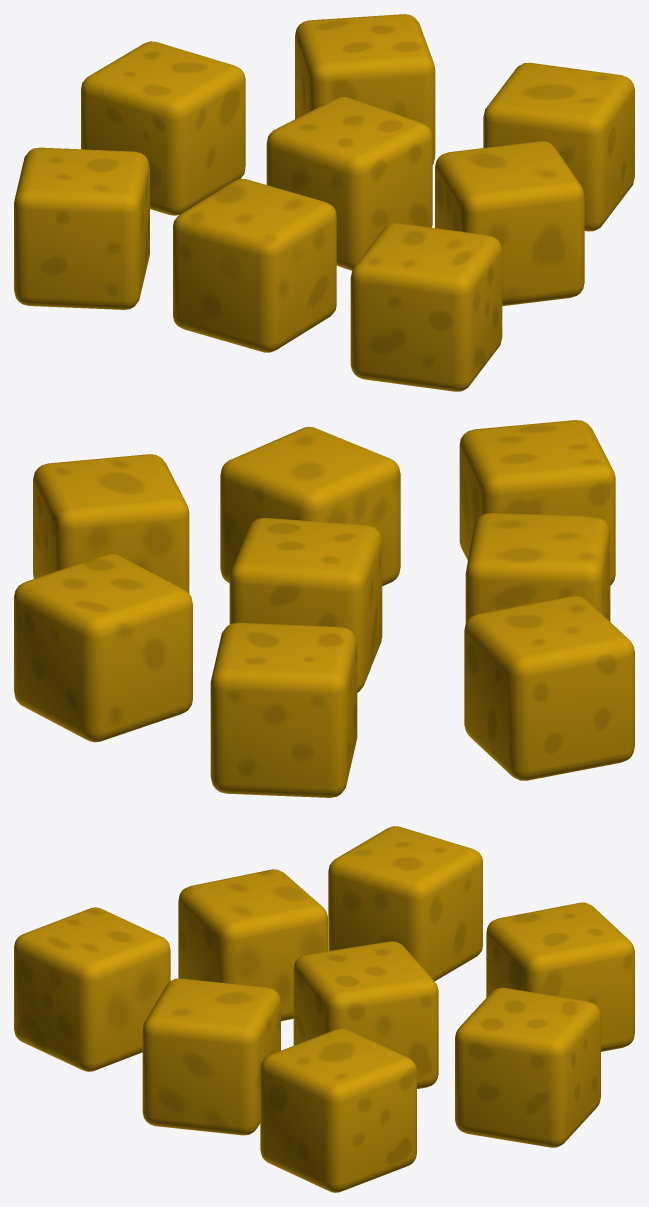
The model's file is Queso_Cortado.fbx.
3 renders of one model, top to bottom at view 1: azimuth 30°, elevation 25°; view 2: azimuth 150°, elevation 25°; view 3: azimuth 270°, elevation 25°, orthographic. The views are drawn at different scales.
Visible parts, largest first — view 1: Queso Cortado; view 2: Queso Cortado; view 3: Queso Cortado.
Part boxes in pixels (left/top/right/bottom): Queso Cortado: left=14, top=14, right=634, bottom=391; Queso Cortado: left=14, top=420, right=634, bottom=797; Queso Cortado: left=14, top=826, right=634, bottom=1192.
Bounding box in the file's own units: 116 × 21.86 × 114.
